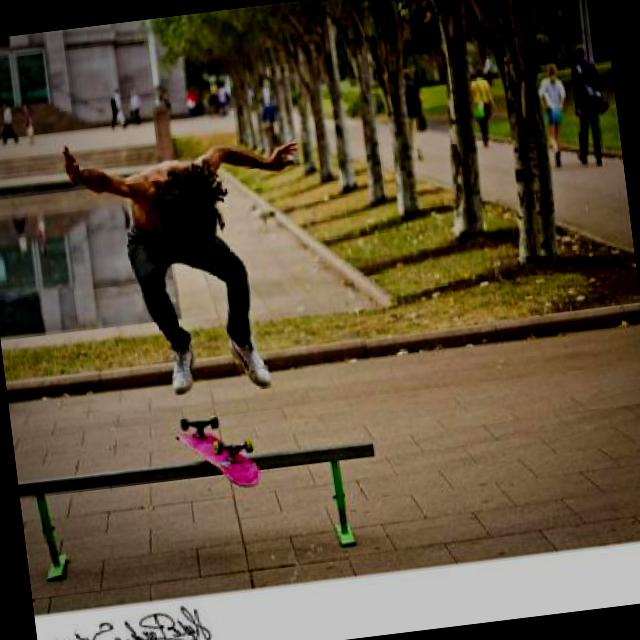Person: (59, 111, 332, 406), (560, 40, 609, 166), (534, 61, 574, 168), (468, 66, 503, 149), (401, 64, 428, 162), (256, 83, 281, 148), (106, 84, 128, 130), (19, 100, 37, 146), (0, 101, 18, 146), (123, 86, 144, 124), (181, 84, 202, 118)
